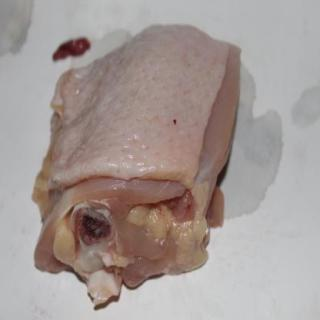Ayam: (37, 27, 242, 307)
